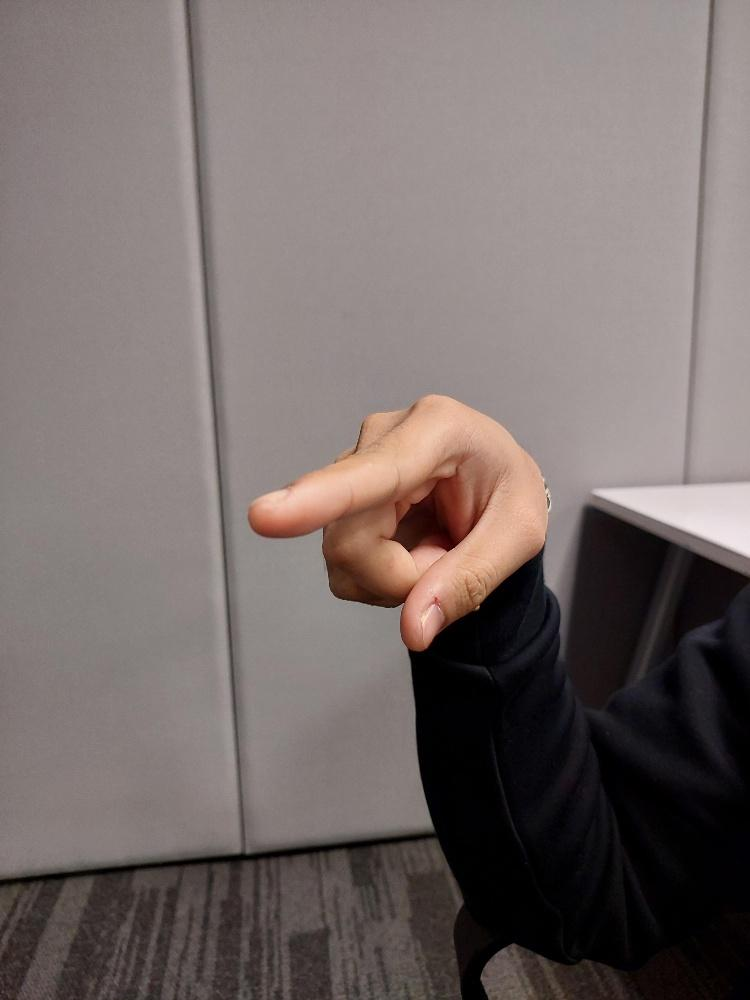z: (245, 390, 549, 651)
